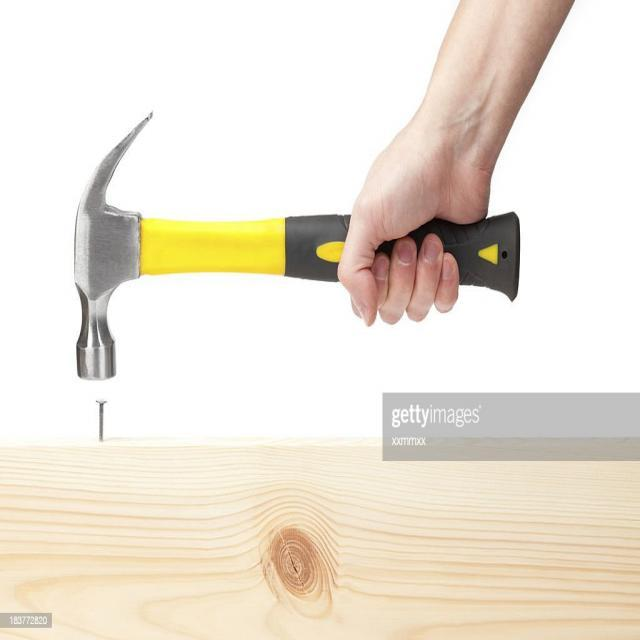hammer: (70, 108, 526, 386)
